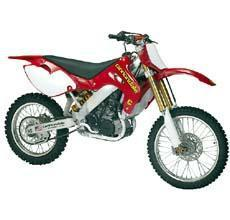motorcycle: (1, 21, 229, 192)
